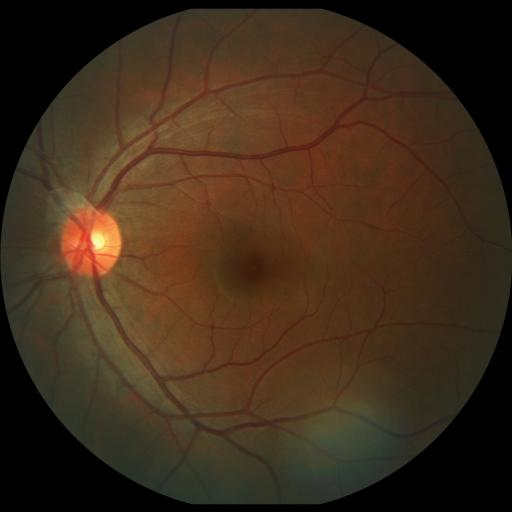Optic Cup: (82, 232, 108, 252)
Optic Disc: (62, 209, 122, 276)
